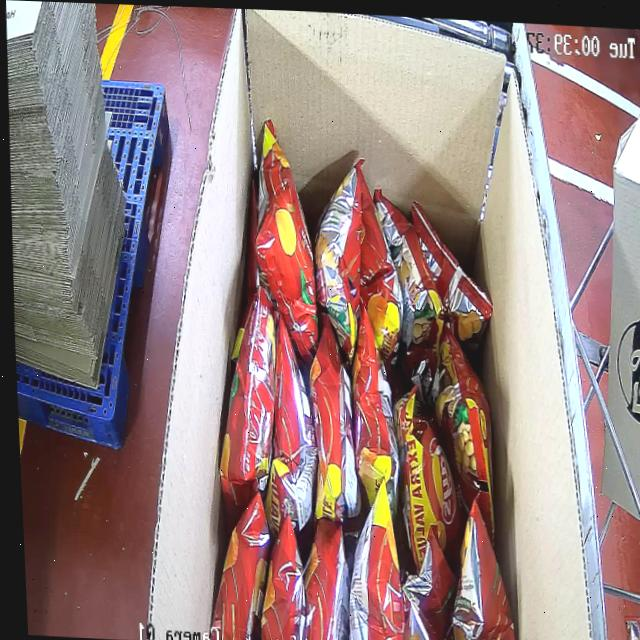MASALA: (185, 116, 527, 640)
